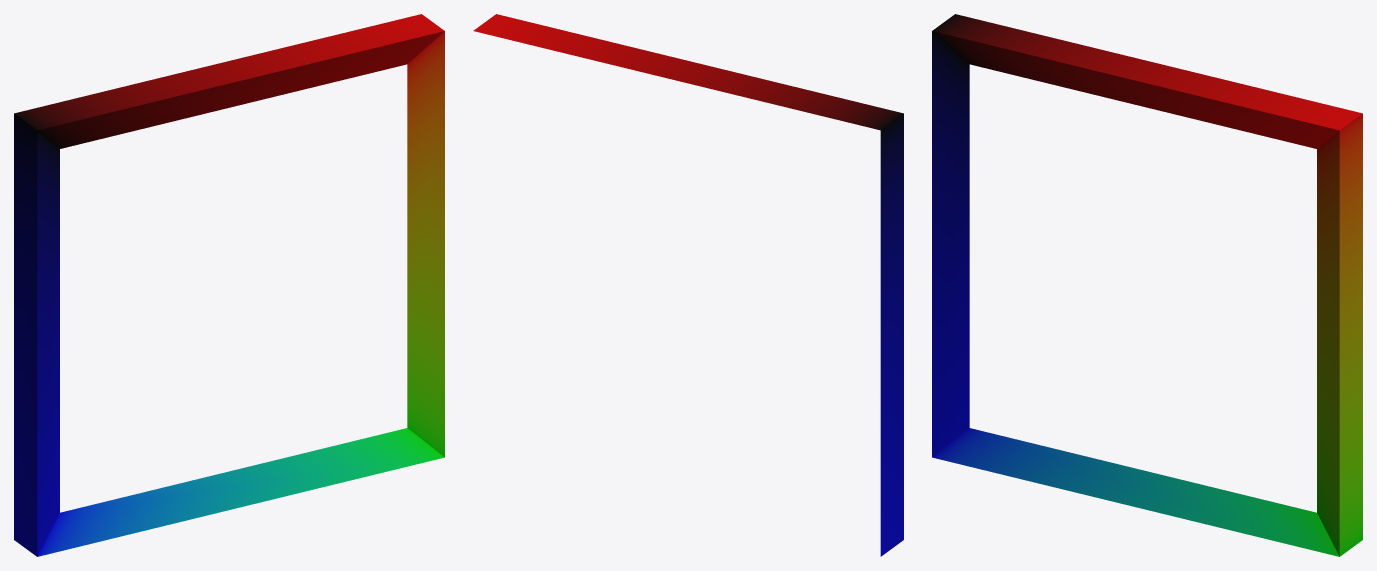
File: painting.glb
The picture shows the model from 3 angles, left to right: view 1: azimuth 30°, elevation 25°; view 2: azimuth 150°, elevation 25°; view 3: azimuth 330°, elevation 25°; orthographic projection.
Visible parts, largest first — view 1: Cube; view 2: Cube; view 3: Cube.
Boxes of the visible parts, bbox=[...] form: Cube: bbox=[14, 14, 444, 556]; Cube: bbox=[473, 14, 903, 556]; Cube: bbox=[932, 14, 1362, 556].
Bounding box in the file's own units: 2.35 × 2.35 × 0.2315.
